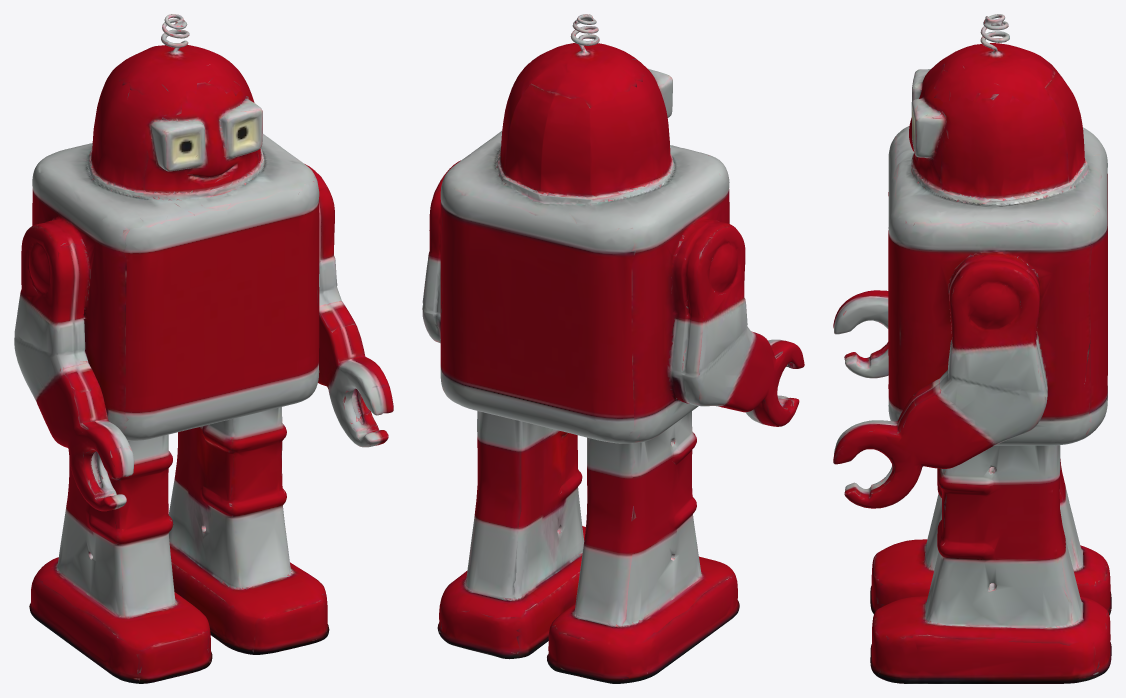
The model's file is robot.glb.
The picture shows the model from 3 angles, left to right: view 1: azimuth 30°, elevation 25°; view 2: azimuth 150°, elevation 25°; view 3: azimuth 270°, elevation 25°; orthographic projection. The views are drawn at different scales.
Visible parts, largest first — view 1: Mesh_0; view 2: Mesh_0; view 3: Mesh_0.
Boxes of the visible parts, x1,y1,x2,y2 form: Mesh_0: (14,14,393,683); Mesh_0: (422,14,804,683); Mesh_0: (833,14,1111,683).
Bounding box in the file's own units: 0.953 × 1.9 × 0.7747.
Materials: 1 (1 with a texture image).
